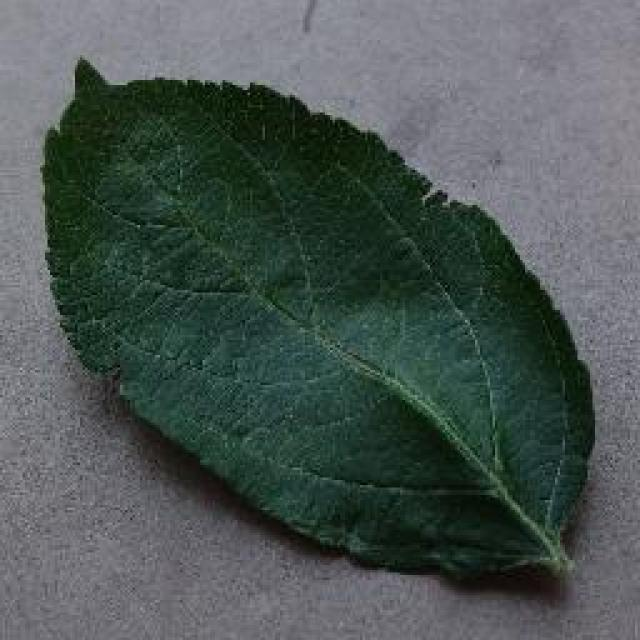App_healthy: (59, 84, 516, 491)
